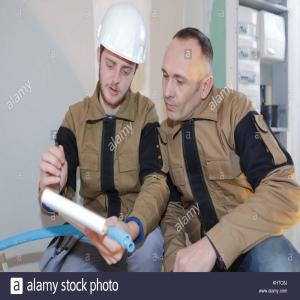none: (162, 27, 216, 124)
white: (97, 3, 146, 104)
